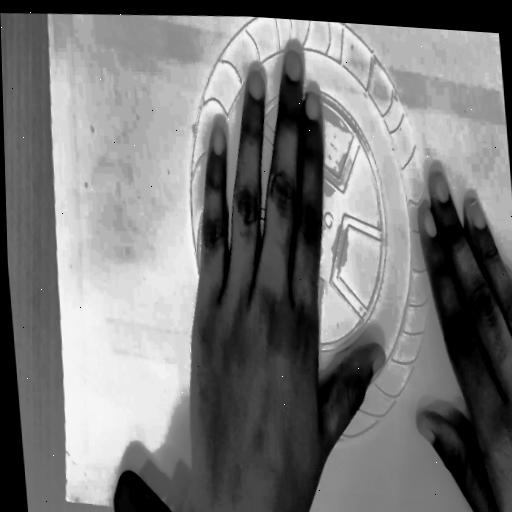bottom_left: (61, 494, 70, 509)
tire: (174, 8, 455, 499)
